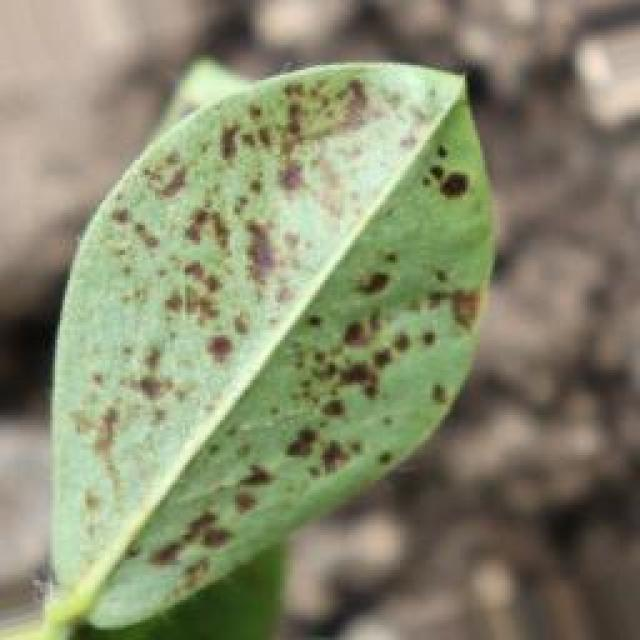Whitefly: (44, 51, 492, 587)
